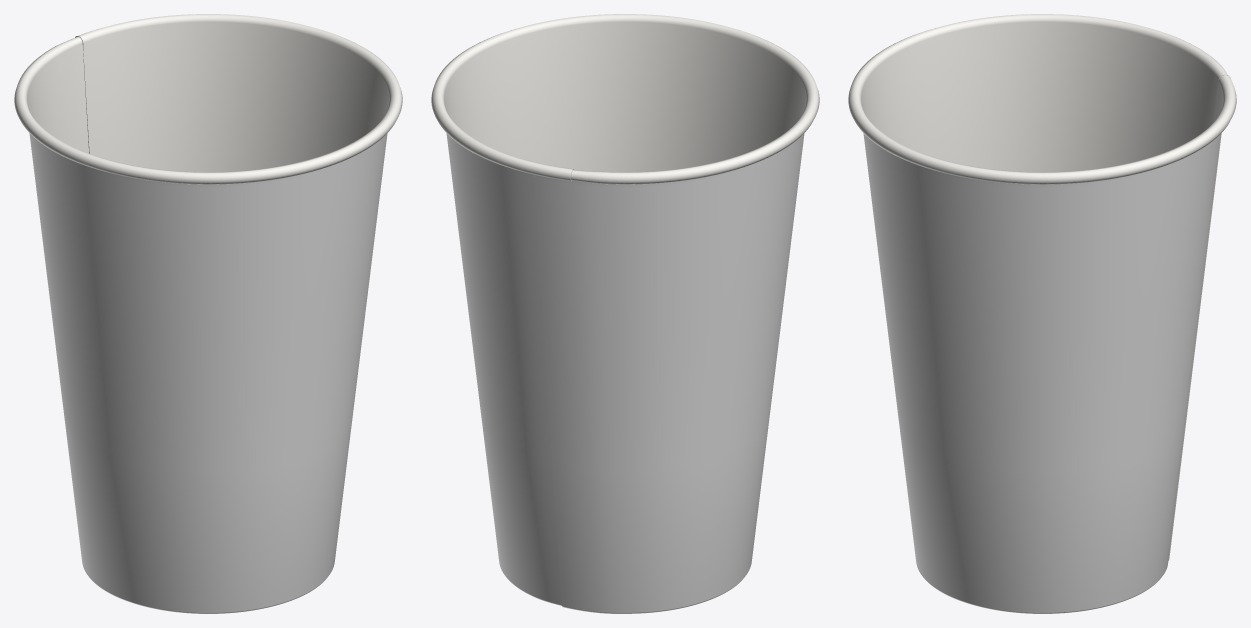
The picture shows the model from 3 angles, left to right: view 1: azimuth 30°, elevation 25°; view 2: azimuth 150°, elevation 25°; view 3: azimuth 270°, elevation 25°; orthographic projection.
Visible parts, largest first — view 1: Cup_Wall; view 2: Cup_Wall; view 3: Cup_Wall.
Part boxes in pixels (left/top/right/bottom): Cup_Wall: left=14, top=14, right=402, bottom=613; Cup_Wall: left=431, top=14, right=819, bottom=613; Cup_Wall: left=848, top=14, right=1236, bottom=613.
Size of the model in its own units: 0.07 by 0.0931 by 0.07.
3 materials, 1 textured.
